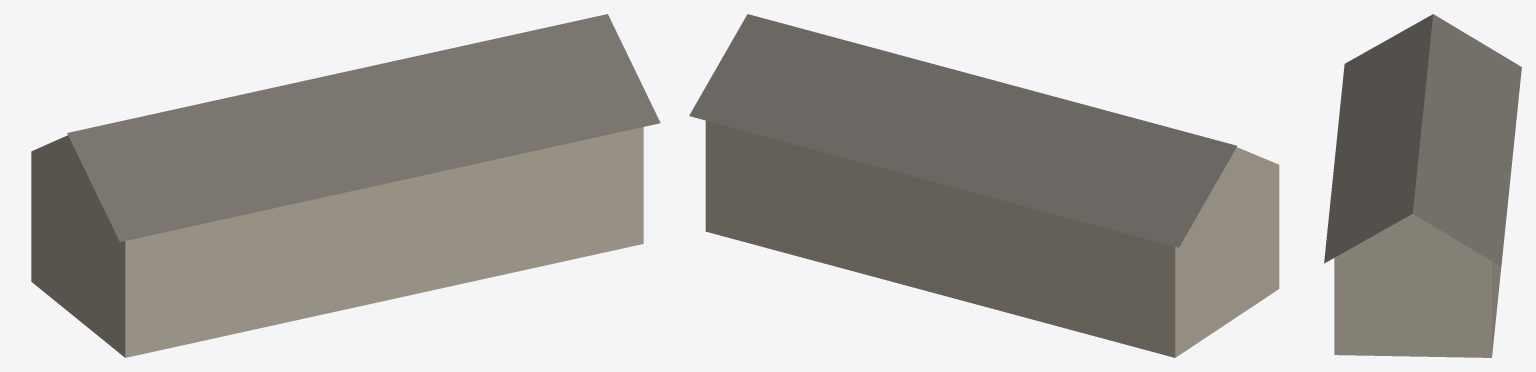
3 renders of one model, left to right at view 1: azimuth 30°, elevation 25°; view 2: azimuth 150°, elevation 25°; view 3: azimuth 270°, elevation 25°, orthographic. The views are drawn at different scales.
Visible parts, largest first — view 1: tuile; view 2: tuile; view 3: tuile.
Part boxes in pixels (bbox=[...]): tuile: bbox=[31, 14, 660, 357]; tuile: bbox=[689, 14, 1279, 357]; tuile: bbox=[1324, 14, 1521, 357].
Bounding box in the file's own units: 17.07 × 5.76 × 7.03.
